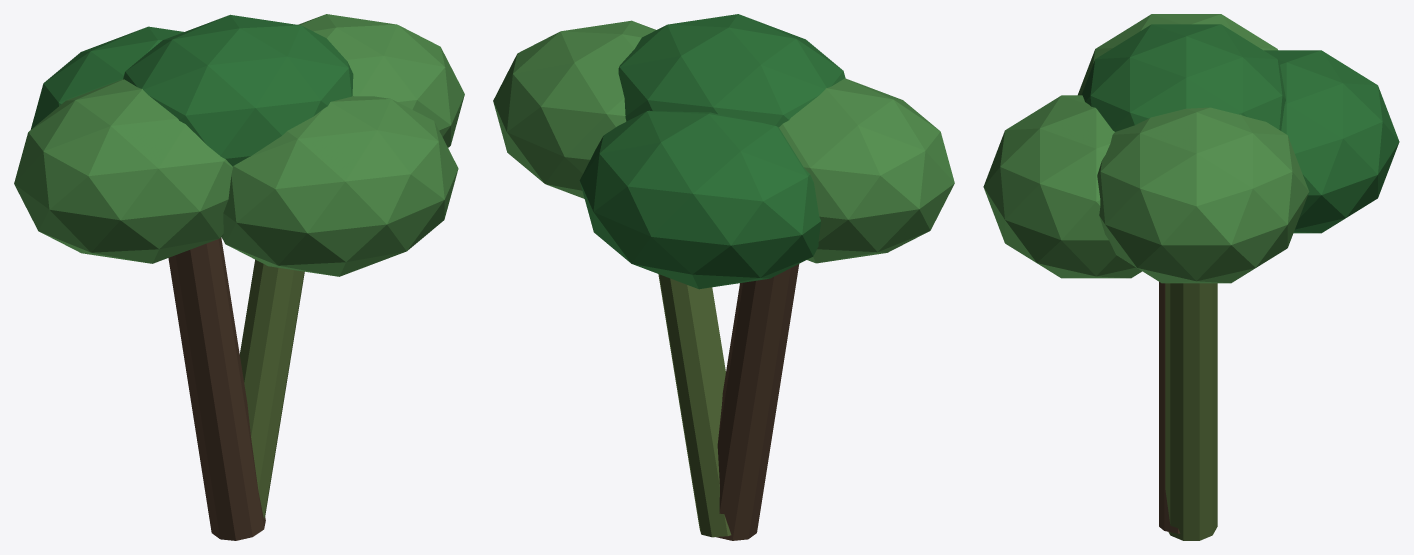
The model's file is SM_MistForestTwinTrunk_A.glb.
The picture shows the model from 3 angles, left to right: view 1: azimuth 30°, elevation 25°; view 2: azimuth 150°, elevation 25°; view 3: azimuth 270°, elevation 25°; orthographic projection.
Visible parts, largest first — view 1: SM_MistForestTwinTrunk_A; view 2: SM_MistForestTwinTrunk_A; view 3: SM_MistForestTwinTrunk_A.
Boxes of the visible parts, <box> form: SM_MistForestTwinTrunk_A: <box>14,14,464,540</box>; SM_MistForestTwinTrunk_A: <box>493,14,954,540</box>; SM_MistForestTwinTrunk_A: <box>983,14,1399,540</box>.
Size of the model in its own units: 9.54 by 10.88 by 8.3.
